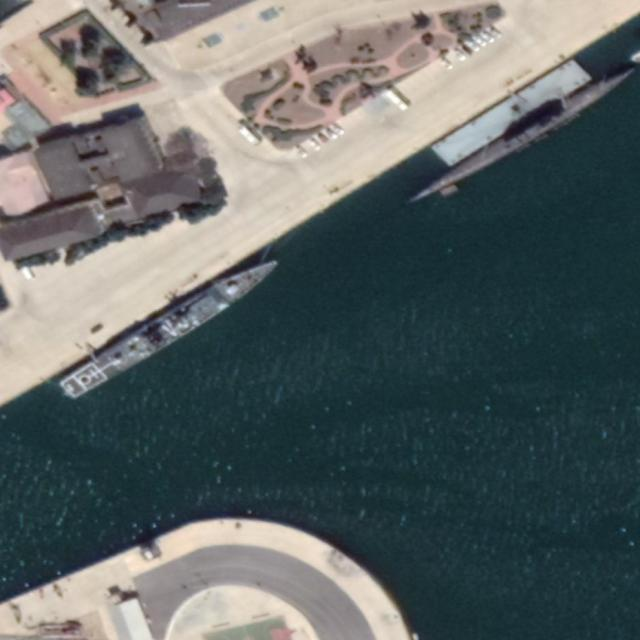Auxiliary Ships: (58, 249, 286, 405)
Submarine: (405, 67, 630, 205)
